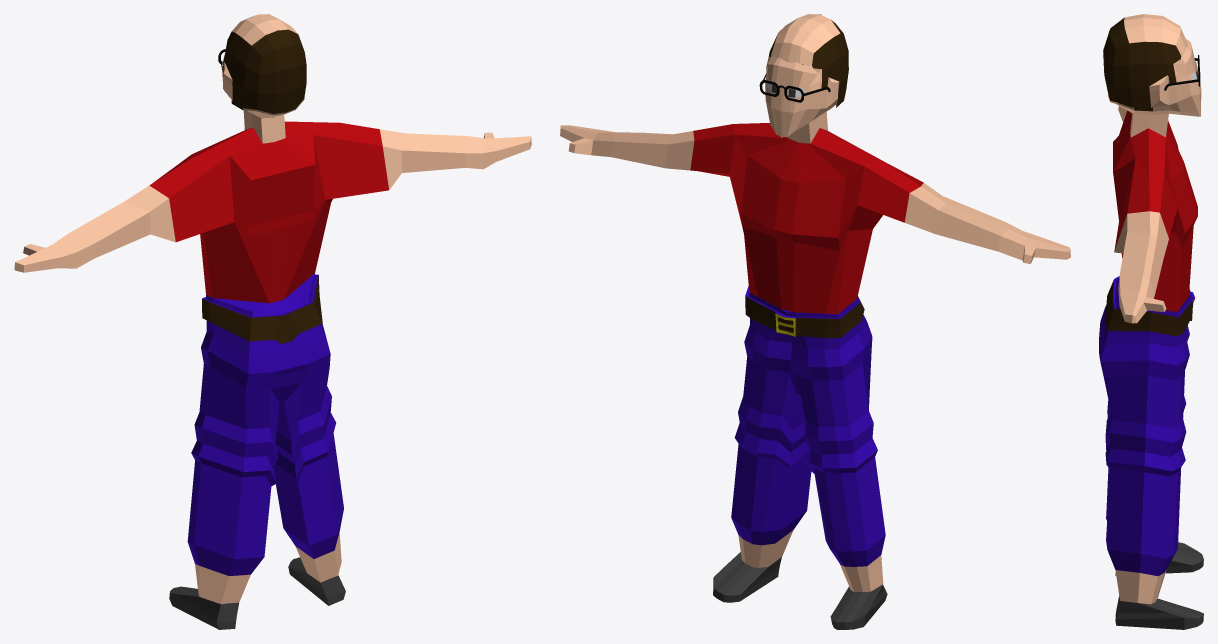
Rendered from darin bueno.fbx.
3 views of the same model, side by side, from view 1: azimuth 30°, elevation 25°; view 2: azimuth 150°, elevation 25°; view 3: azimuth 270°, elevation 25° (orthographic).
Parts seen in each view (by area): view 1: darin; view 2: darin; view 3: darin.
Part boxes in pixels (x1=…): darin: x1=14, y1=14, x2=531, y2=629; darin: x1=560, y1=14, x2=1070, y2=629; darin: x1=1099, y1=14, x2=1203, y2=629.
Size of the model in its own units: 918 by 996 by 163.
